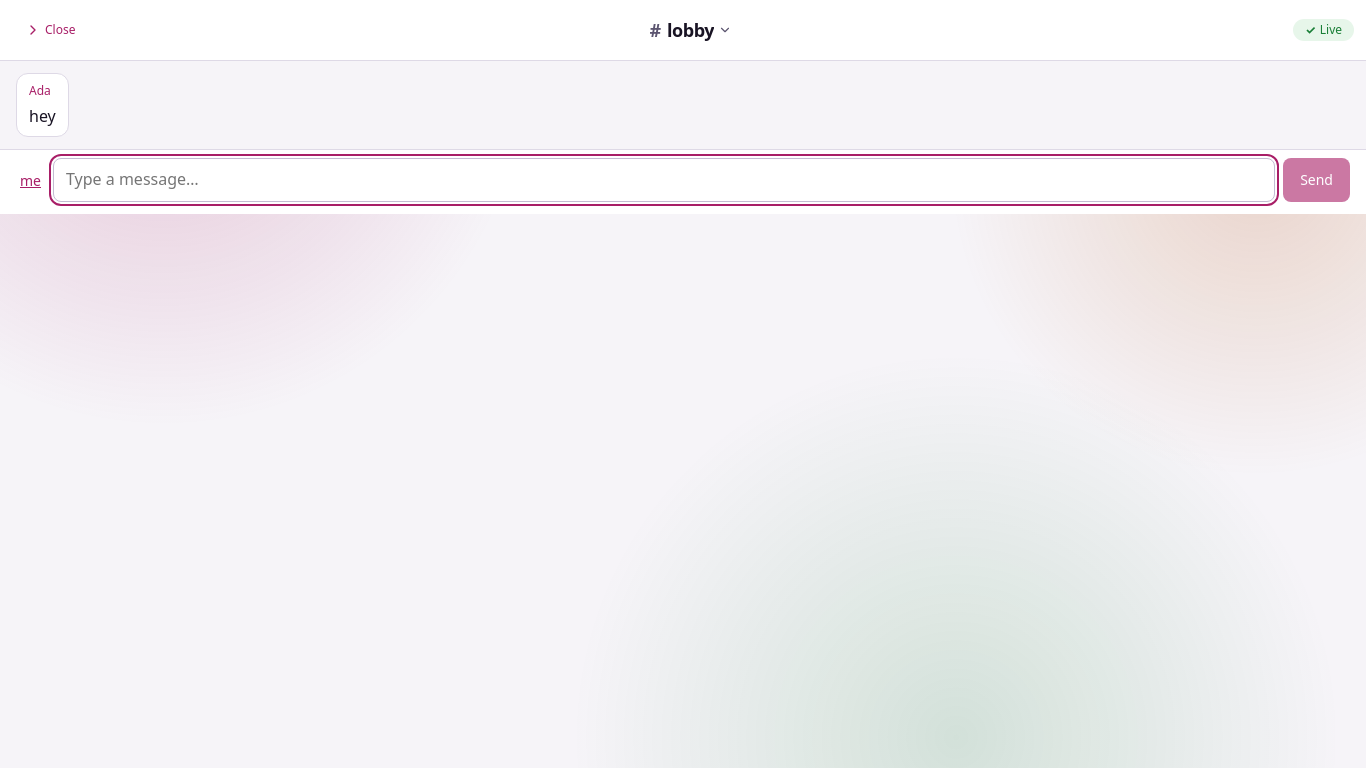
Test case: ChatScreen › mutes a sender, then lets it be undone from the Muted list — no dead-end for an accidental mute
Expected: the button "Muted" is not shown
Click the text "hey". click: (42, 116)
box: [29, 104, 56, 128]
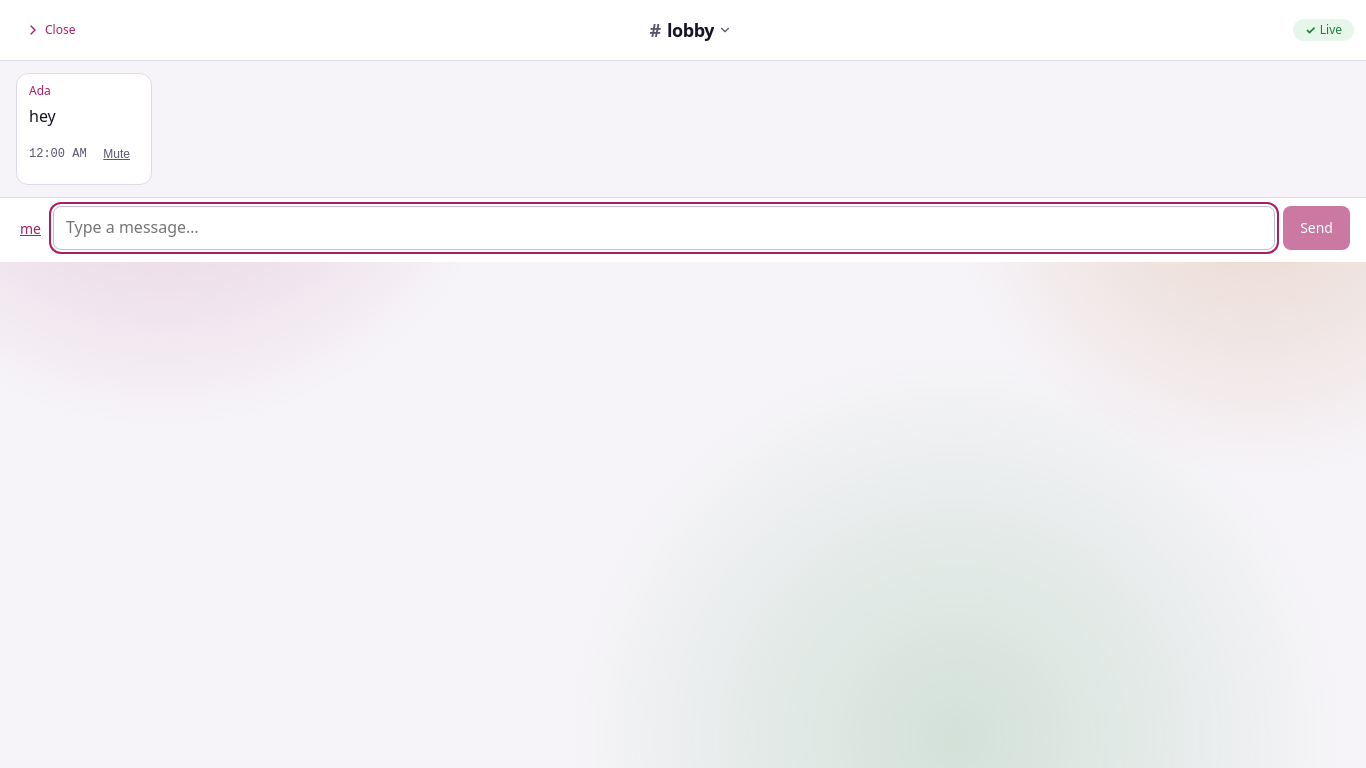
Click the button with aria-label "Mute Ada". click: (117, 154)
box: [95, 132, 139, 176]
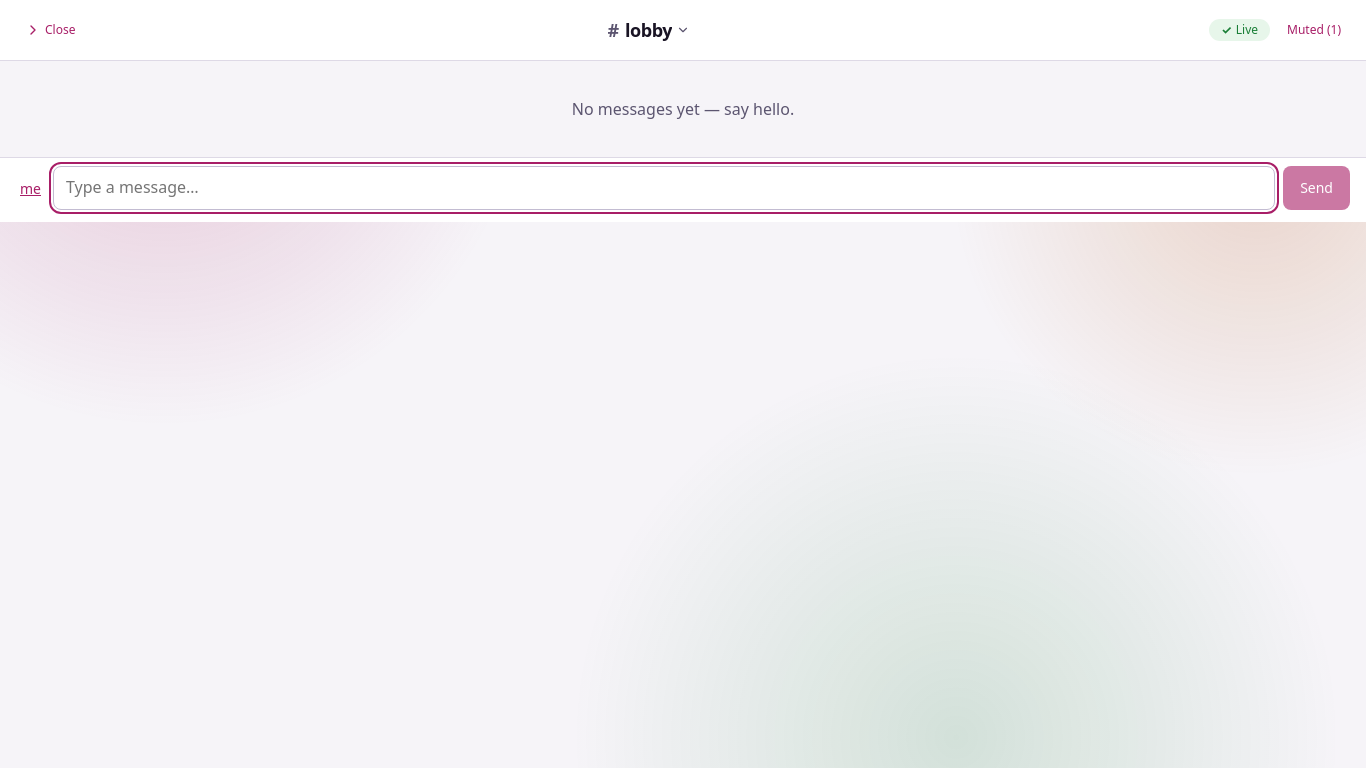
Expected: the button "hey" is gone
Click the button "Muted (1)". click: (1314, 30)
box: [1274, 8, 1354, 52]
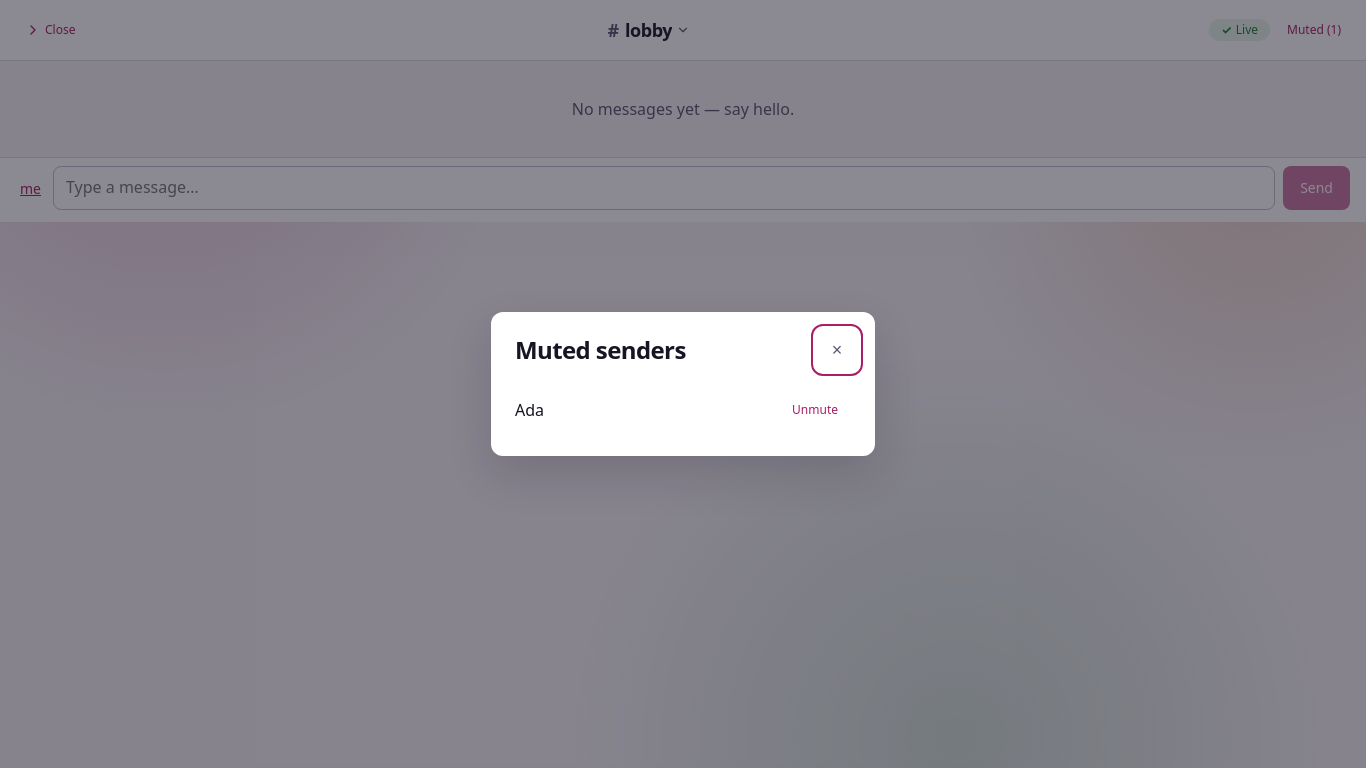
Expected: the dialog is shown, [491, 312, 875, 456]
Expected: the text "Ada" is shown, [515, 398, 544, 422]
Click the button "Unmute". click: (815, 410)
box: [779, 388, 851, 432]
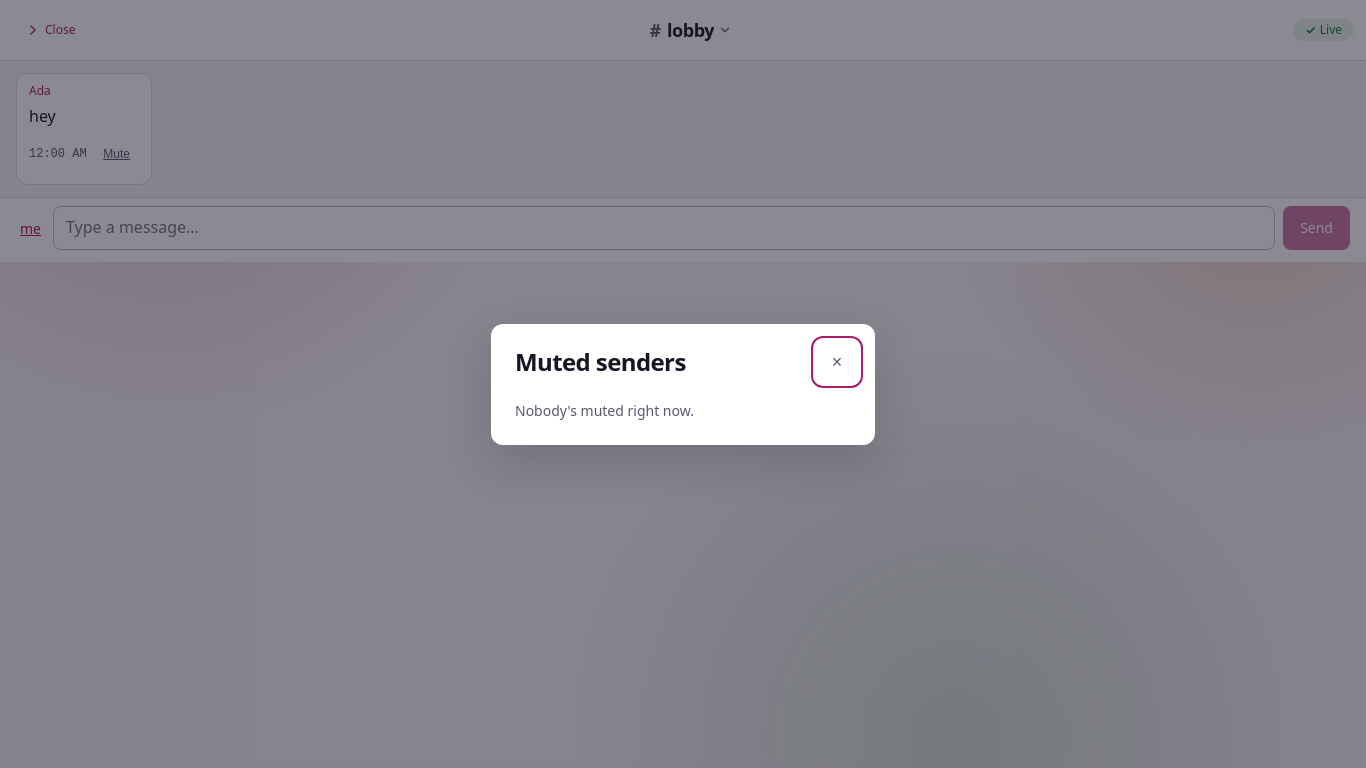
Expected: the text "hey" is shown, [29, 105, 56, 127]
